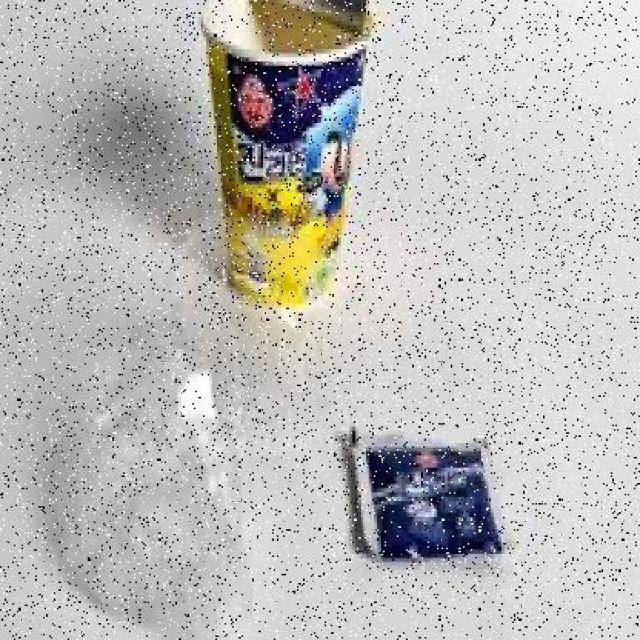Miscellaneous: (195, 0, 380, 303)
